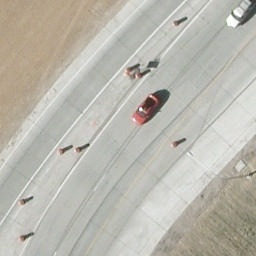car: (134, 91, 162, 126)
